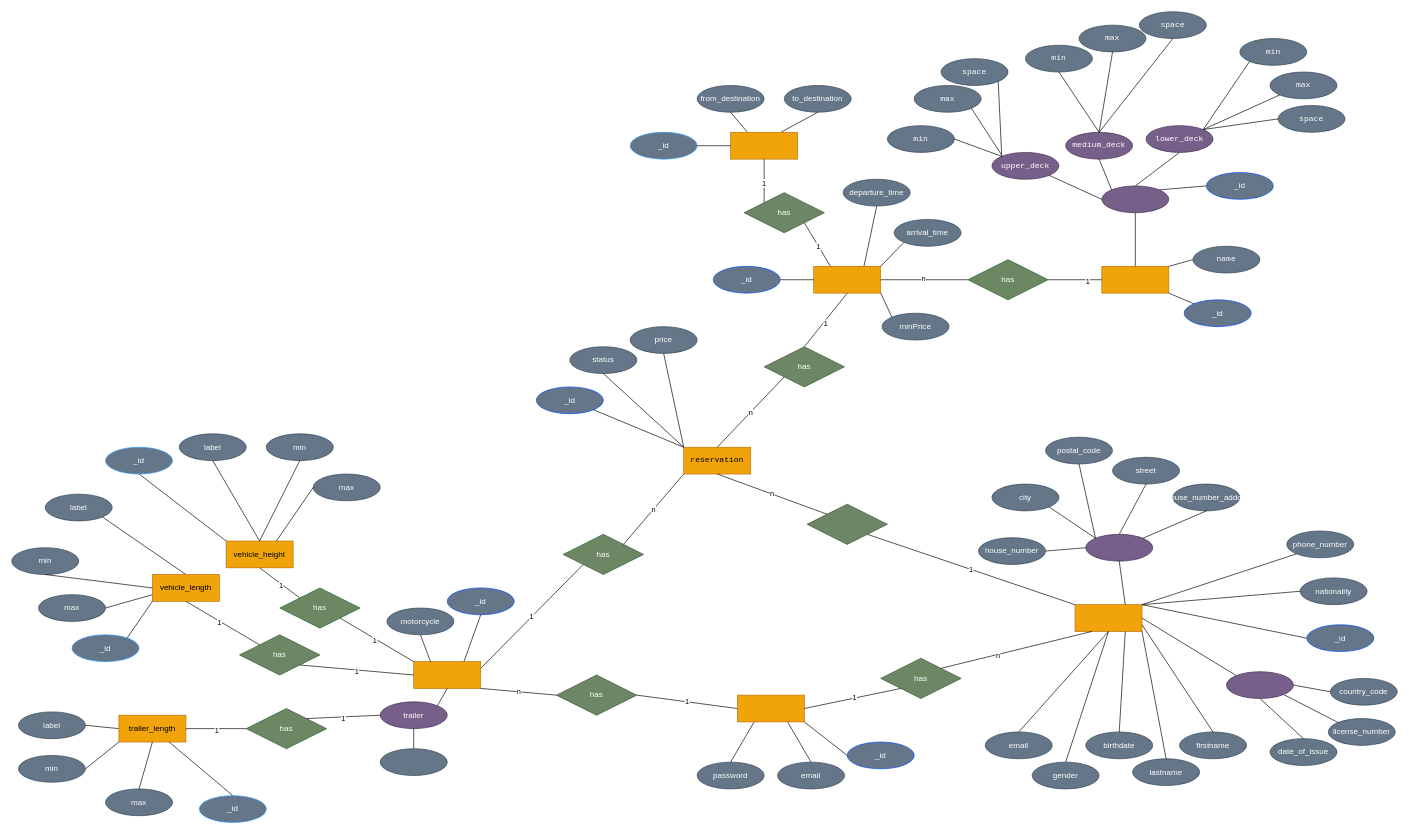
Image size: 1409x834. Some labels were removed from this diagram. Each missing label, with the centre of its shape:
account: the point at 770,708
address: the point at 1119,547
booked: the point at 846,524
customer: the point at 1108,617
driver: the point at 1259,684
exists: the point at 413,762
ferry: the point at 1135,279
ferry_capacity: the point at 1135,199
route: the point at 764,145
trip: the point at 847,279
vehicle: the point at 447,674
